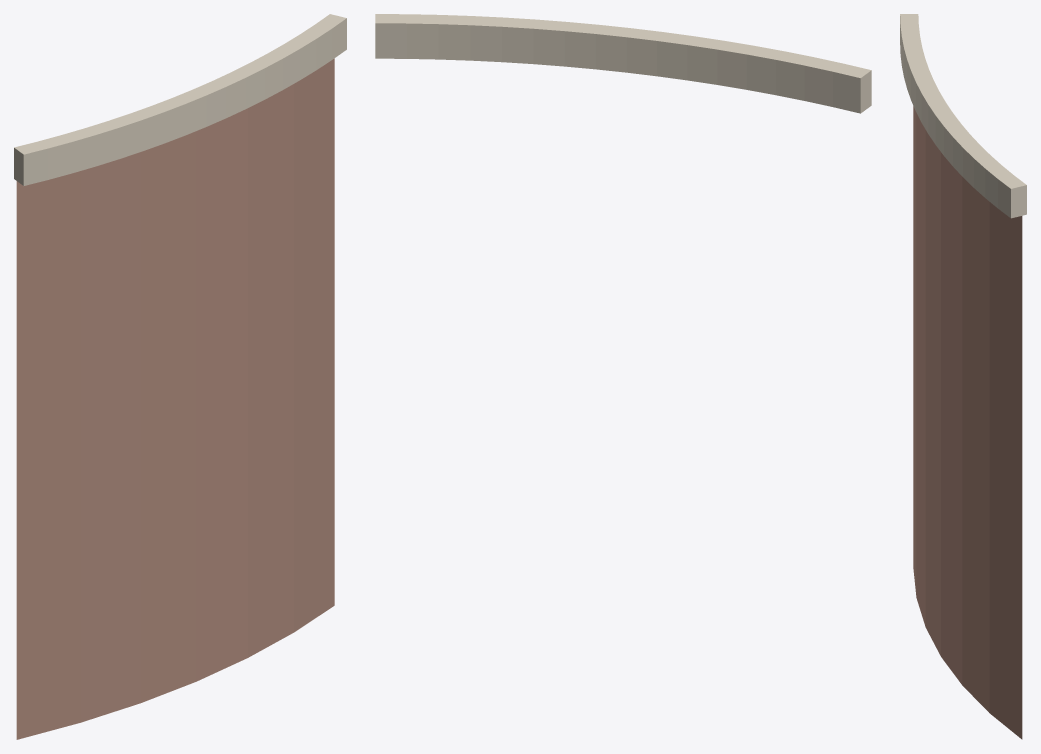
The model's file is ArcWall_R4_A30.glb.
3 renders of one model, left to right at view 1: azimuth 30°, elevation 25°; view 2: azimuth 150°, elevation 25°; view 3: azimuth 270°, elevation 25°, orthographic. The views are drawn at different scales.
Parts seen in each view (by area): view 1: PBK_Brick_ArcWall_R4_A30_Exterior_Surface.001, PBK_floor_band.048; view 2: PBK_floor_band.048; view 3: PBK_Brick_ArcWall_R4_A30_Exterior_Surface.001, PBK_floor_band.048.
Boxes of the visible parts, left/top/right/bottom form: PBK_Brick_ArcWall_R4_A30_Exterior_Surface.001: left=16, top=58, right=334, bottom=739; PBK_floor_band.048: left=14, top=14, right=346, bottom=185; PBK_floor_band.048: left=375, top=14, right=871, bottom=113; PBK_Brick_ArcWall_R4_A30_Exterior_Surface.001: left=913, top=106, right=1022, bottom=739; PBK_floor_band.048: left=900, top=14, right=1026, bottom=218.
Bounding box in the file's own units: 2.03 × 3 × 0.6225.
